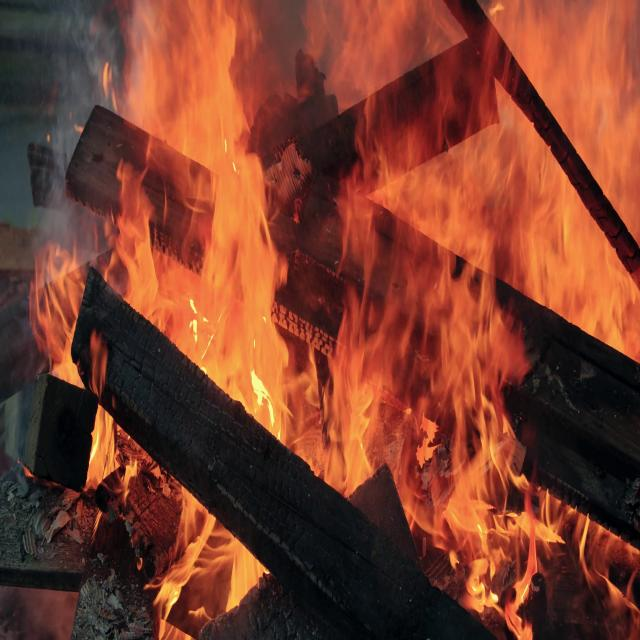Fire: (32, 0, 640, 640), (57, 407, 277, 640), (30, 260, 94, 388)
